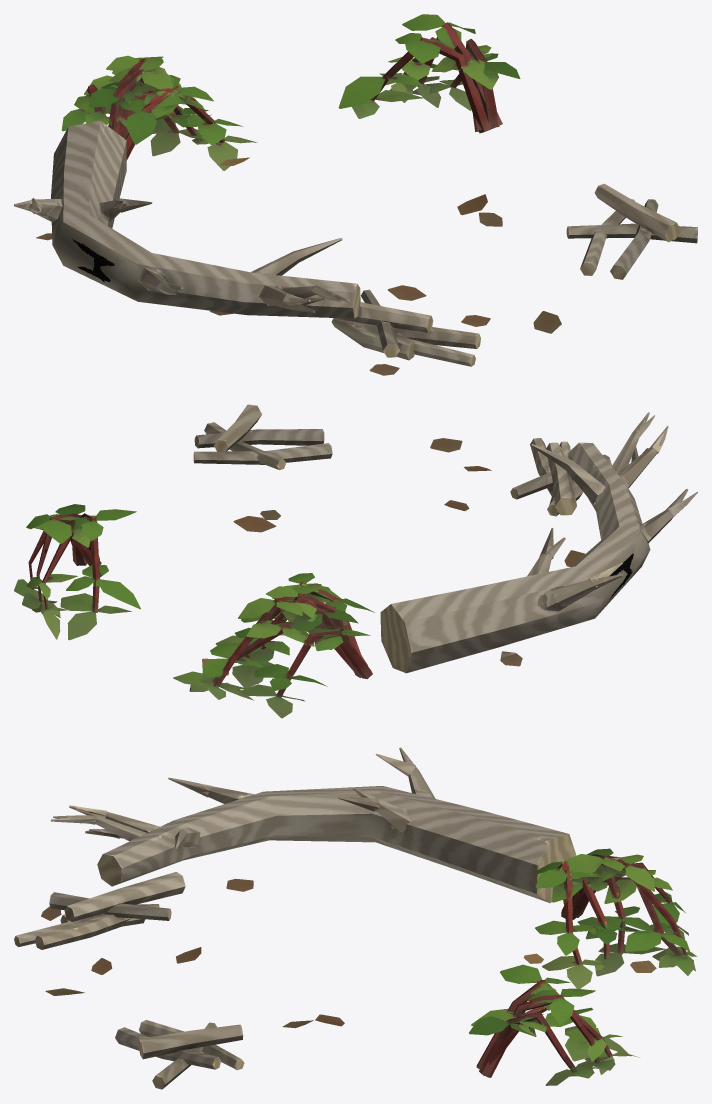
File: rough-forest-1.hq.glb
The picture shows the model from 3 angles, top to bottom: view 1: azimuth 30°, elevation 25°; view 2: azimuth 150°, elevation 25°; view 3: azimuth 270°, elevation 25°; orthographic projection. The views are drawn at different scales.
Visible parts, largest first — view 1: rough-forest-1; view 2: rough-forest-1; view 3: rough-forest-1.
Part boxes in pixels (bbox=[...]): rough-forest-1: bbox=[14, 14, 697, 375]; rough-forest-1: bbox=[14, 404, 697, 718]; rough-forest-1: bbox=[14, 747, 697, 1089].
Size of the model in its own units: 1.44 by 0.2382 by 1.57.
1 material, 1 textured.
